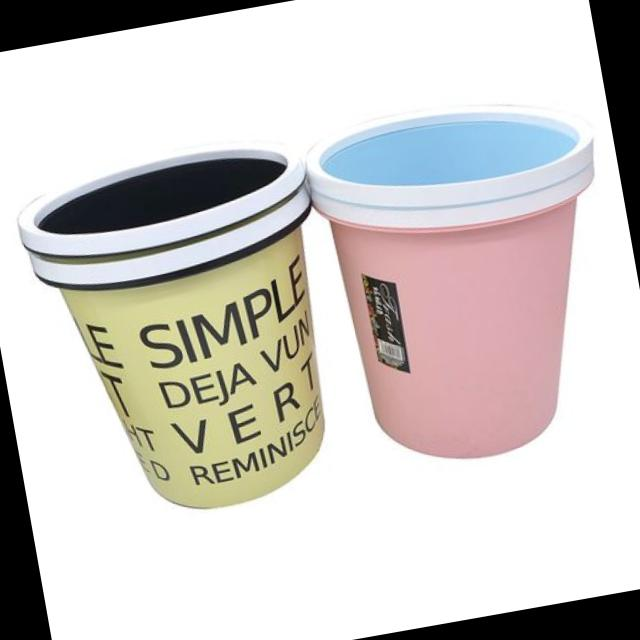dustbin: (5, 121, 365, 539), (294, 72, 640, 486)
